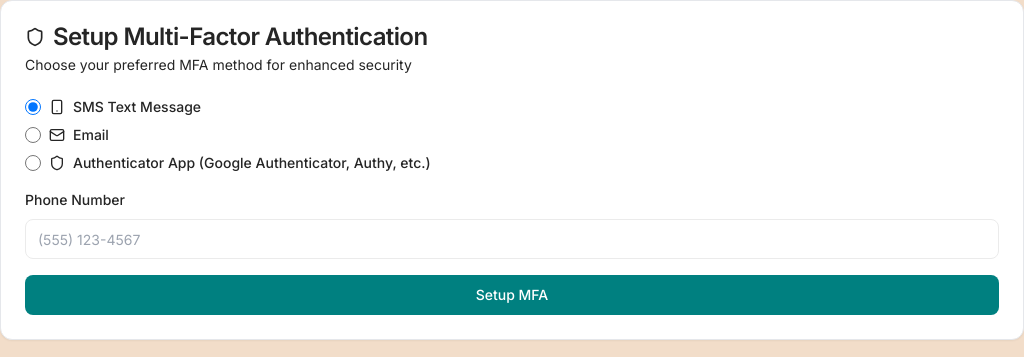
MfaSetup › Method Selection › should show info message when Authenticator App is selected
The image size is (1024, 357).
Click the radio button labelled "Authenticator App (Google Authenticator, Authy, etc.)".
click(33, 163)  # box [25,155,41,171]
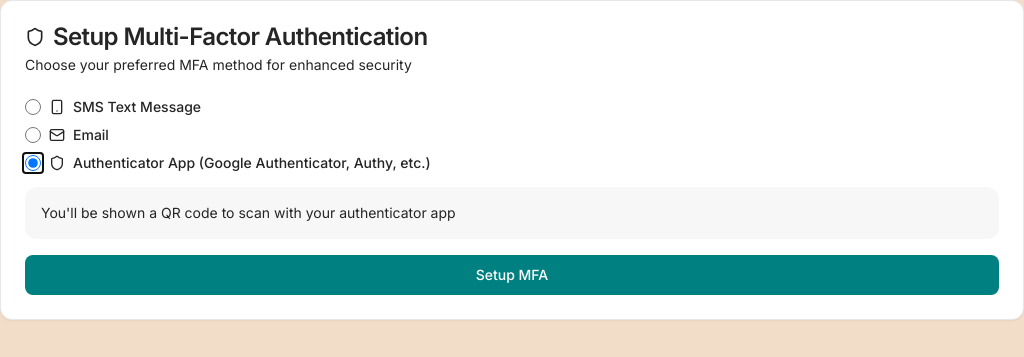
Now the text "You'll be shown a QR code" is shown, box [41,204,456,221]
